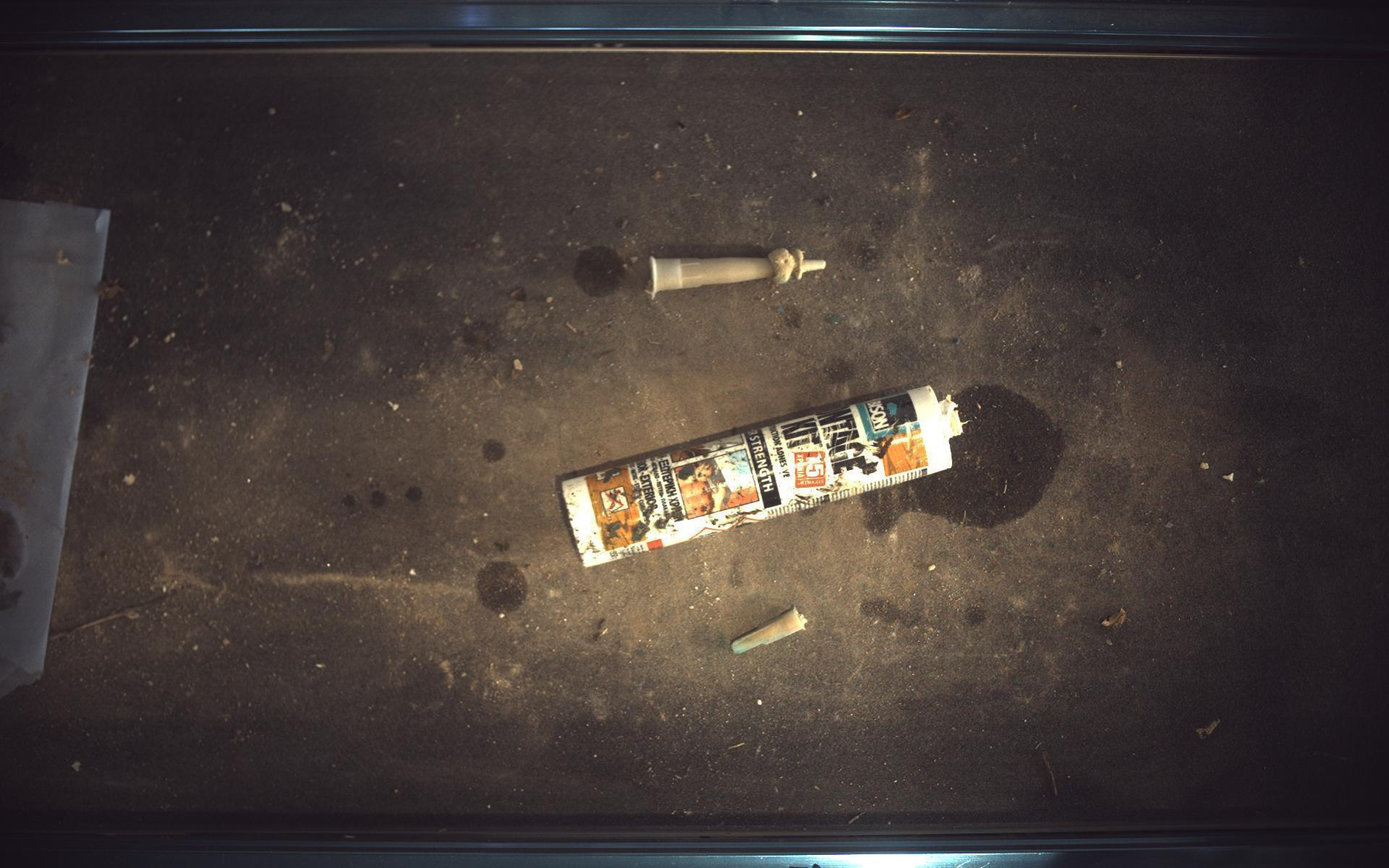plastic: (561, 386, 964, 568), (652, 247, 828, 297), (732, 608, 808, 655)
